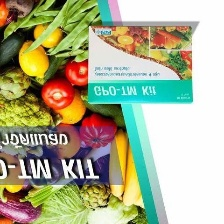book: (83, 22, 194, 107)
